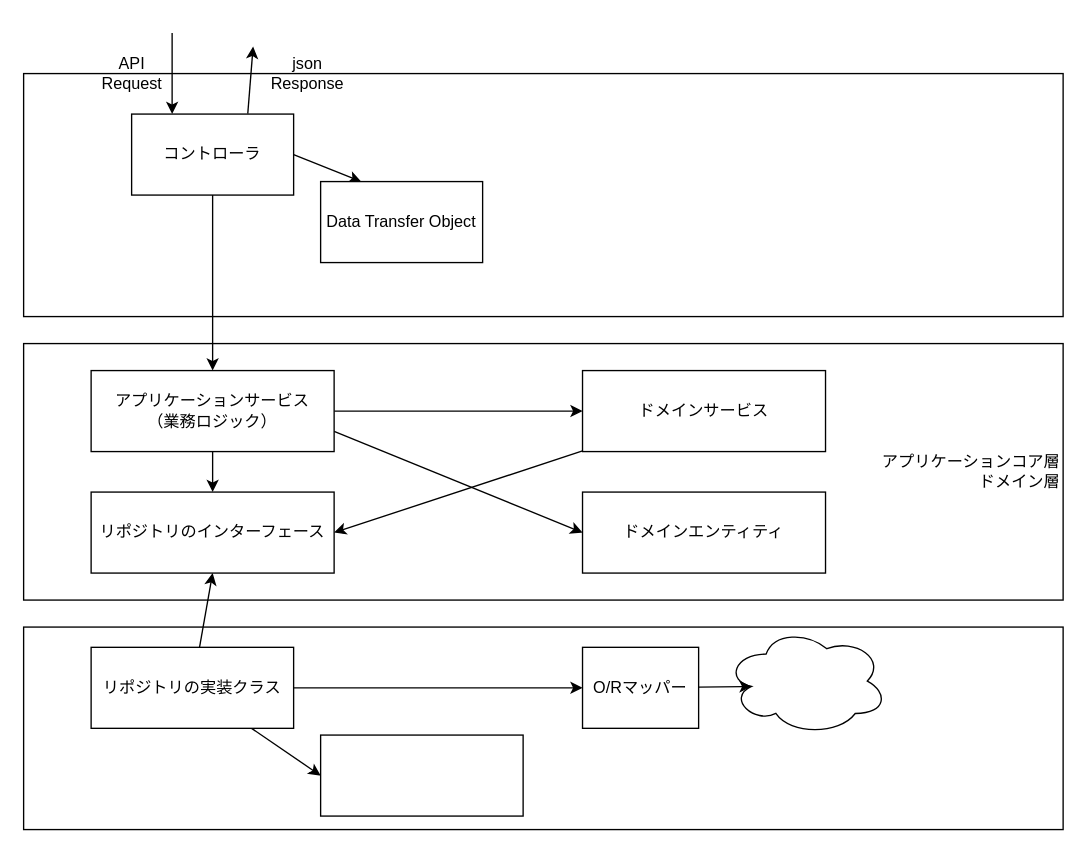
Image size: 1087x853. Some labels were removed from this diagram. The shapes that lost their labels are listed below. From the top down, each one's box as (x1, y1, x2, y2) in pixels, then its label:
(22, 72, 1063, 317): プレゼンテーション層
(724, 626, 888, 735): DB
(22, 626, 1063, 830): インフラストラクチャ層
(319, 734, 523, 816): エンティティ
